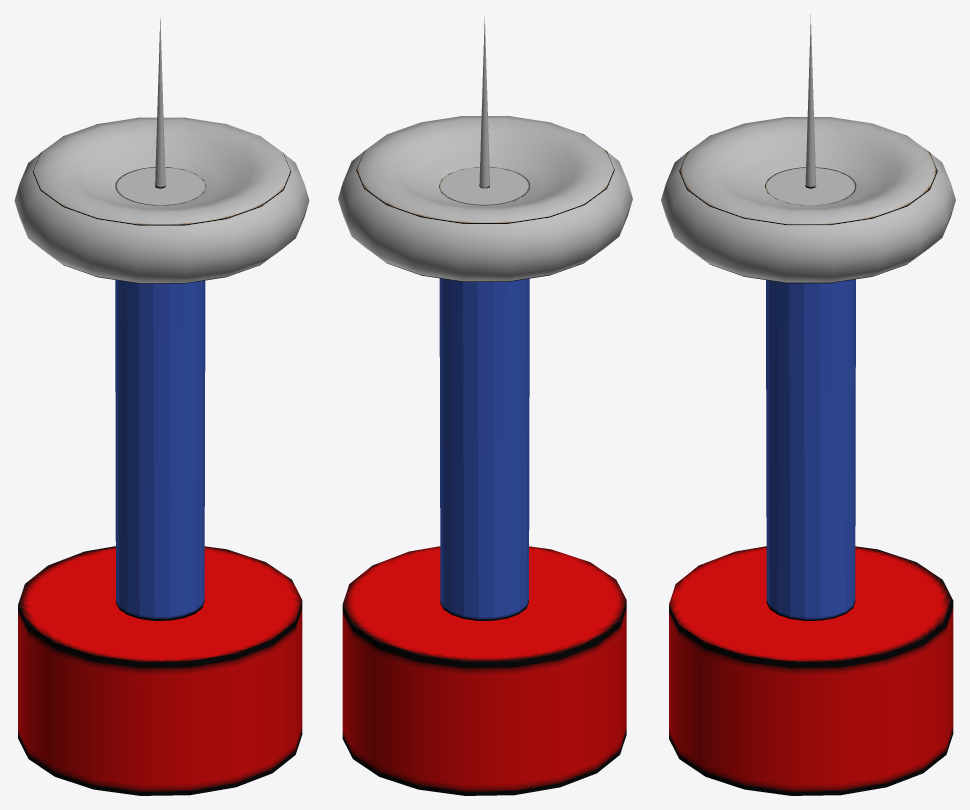
The model's file is TeslaCoilLarge.fbx.
3 views of the same model, side by side, from view 1: azimuth 30°, elevation 25°; view 2: azimuth 150°, elevation 25°; view 3: azimuth 270°, elevation 25° (orthographic).
Parts seen in each view (by area): view 1: Cylinder003; view 2: Cylinder003; view 3: Cylinder003.
Part boxes in pixels (x1=…): Cylinder003: x1=14, y1=18, x2=309, y2=795; Cylinder003: x1=338, y1=15, x2=632, y2=795; Cylinder003: x1=661, y1=14, x2=955, y2=795.
Bounding box in the file's own units: 4.08 × 11.2 × 4.15.
